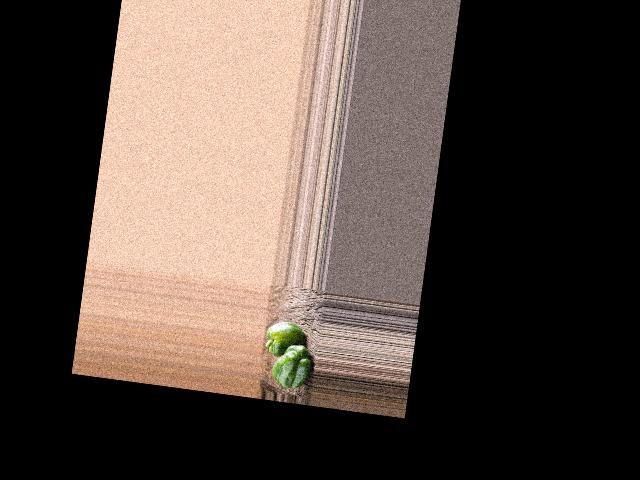bell_pepper: (269, 340, 312, 390)
